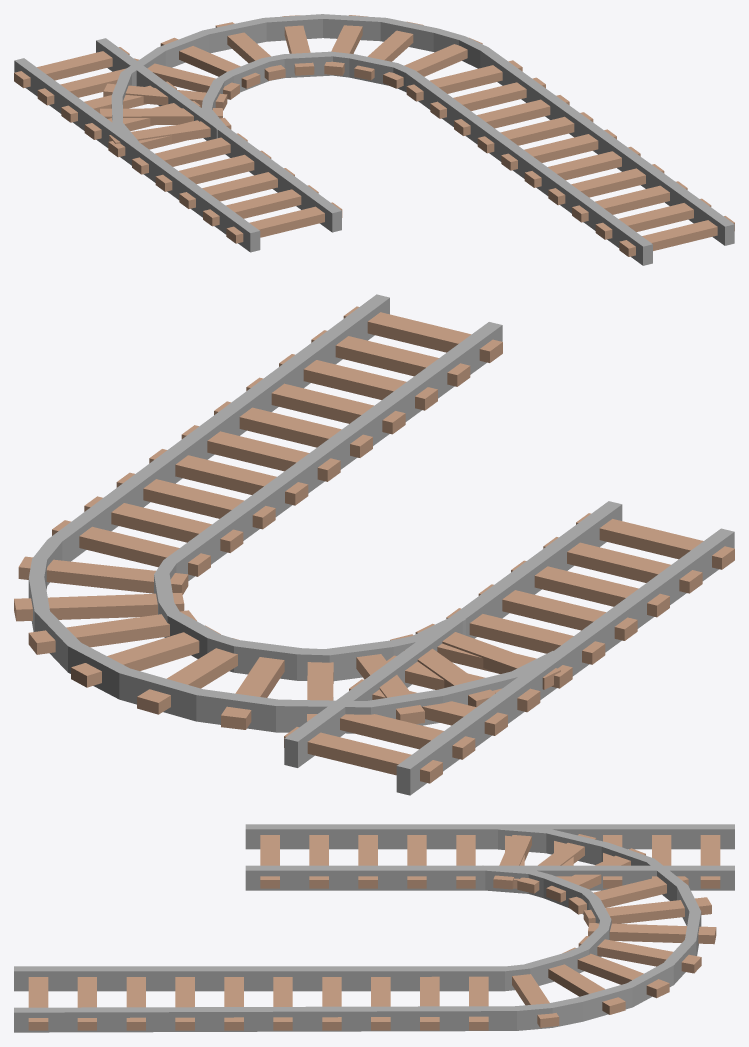
File: Train rails.fbx
3 renders of one model, top to bottom at view 1: azimuth 30°, elevation 25°; view 2: azimuth 150°, elevation 25°; view 3: azimuth 270°, elevation 25°, orthographic. The views are drawn at different scales.
Visible parts, largest first — view 1: Rails bent, Rails normal; view 2: Rails bent, Rails normal; view 3: Rails bent, Rails normal.
Boxes of the visible parts, box(x1,y1,x2,y2) form: Rails bent: box(100, 14, 734, 265); Rails normal: box(14, 38, 342, 252); Rails bent: box(14, 294, 564, 733); Rails normal: box(284, 501, 734, 795); Rails bent: box(14, 825, 716, 1032); Rails normal: box(245, 824, 734, 890).
Bounding box in the file's own units: 1893 × 90 × 2948.
